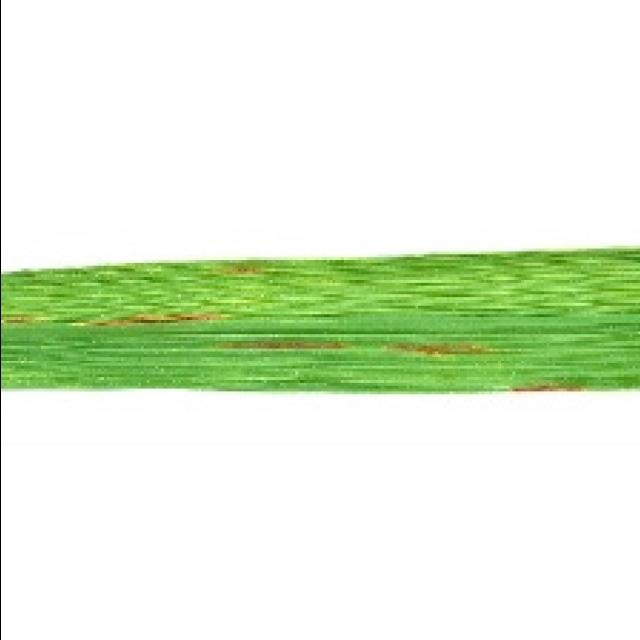Unhealthy: (65, 312, 228, 327), (376, 342, 486, 358), (209, 339, 350, 351), (209, 263, 268, 275), (510, 384, 592, 392), (0, 314, 52, 325)
